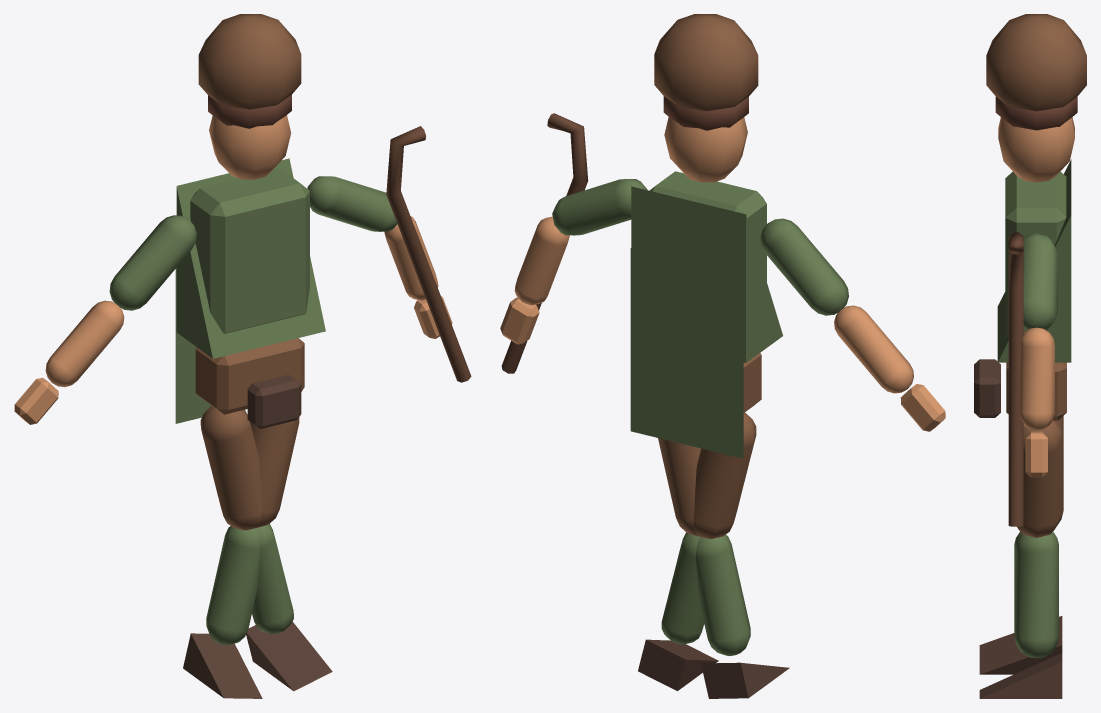
The model's file is adventurer.rustic.glb.
The picture shows the model from 3 angles, left to right: view 1: azimuth 30°, elevation 25°; view 2: azimuth 150°, elevation 25°; view 3: azimuth 270°, elevation 25°; orthographic projection.
Visible parts, largest first — view 1: torso, accessory.head, tunic, thigh.left, pelvis, shin.right, upper-arm.left, accessory.main-hand, head, forearm.left, upper-arm.right, foot.left (+8 smaller); view 2: accessory.back, tunic, accessory.head, shin.right, upper-arm.left, thigh.left, head, forearm.left, upper-arm.right, torso, shin.left, forearm.right (+8 smaller); view 3: accessory.head, shin.left, accessory.main-hand, torso, head, thigh.right, forearm.right, tunic, upper-arm.right, foot.left, foot.right, hair (+3 smaller).
Boxes of the visible parts, box(x1,y1,x2,y2) form: torso: box(190, 168, 309, 333); accessory.head: box(198, 14, 301, 109); tunic: box(176, 158, 325, 358); thigh.left: box(200, 406, 262, 530); pelvis: box(195, 338, 304, 414); shin.right: box(206, 526, 259, 645); upper-arm.left: box(109, 215, 196, 310); accessory.main-hand: box(386, 126, 471, 382); head: box(209, 115, 290, 179); forearm.left: box(45, 300, 124, 386); upper-arm.right: box(307, 176, 397, 231); foot.left: box(246, 621, 332, 691); accessory.back: box(630, 248, 743, 458); tunic: box(631, 186, 782, 362); accessory.head: box(654, 14, 758, 111); shin.right: box(696, 534, 750, 656); upper-arm.left: box(760, 218, 848, 315); thigh.left: box(694, 412, 756, 538); head: box(664, 117, 747, 182); forearm.left: box(834, 305, 913, 393); upper-arm.right: box(552, 179, 647, 235); torso: box(649, 171, 766, 281); shin.left: box(661, 532, 704, 644); forearm.right: box(514, 216, 569, 305); accessory.head: box(986, 14, 1086, 111); shin.left: box(1014, 532, 1058, 658); accessory.main-hand: box(1008, 232, 1023, 526); torso: box(1005, 171, 1066, 336); head: box(998, 117, 1074, 182); thigh.right: box(1017, 420, 1063, 537); forearm.right: box(1020, 327, 1054, 430); tunic: box(997, 159, 1071, 362); upper-arm.right: box(1023, 233, 1057, 330); foot.left: box(979, 653, 1062, 698); foot.right: box(979, 616, 1062, 674); hair: box(995, 96, 1077, 130).
Size of the model in its own units: 2.31 by 3.28 by 0.5048.
